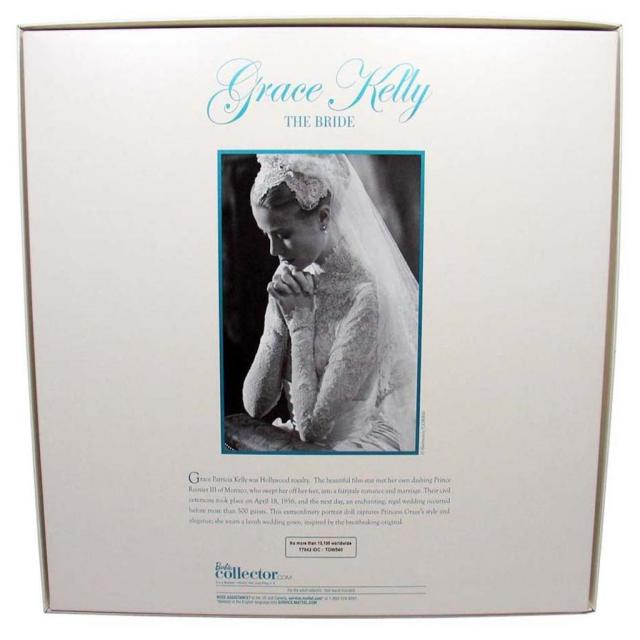nomask: (252, 202, 318, 268)
